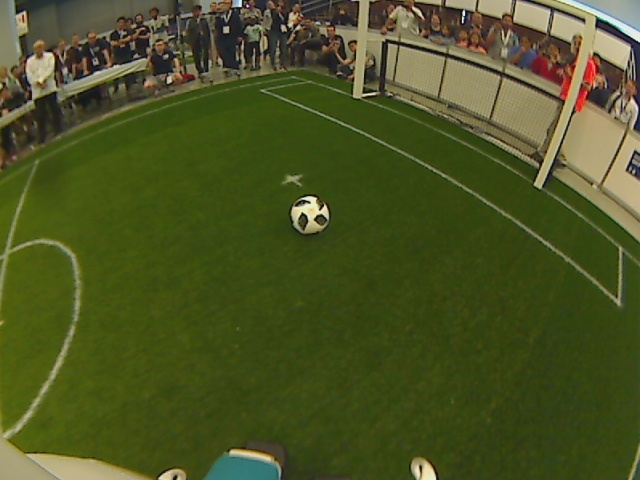ball: (287, 193, 331, 235)
